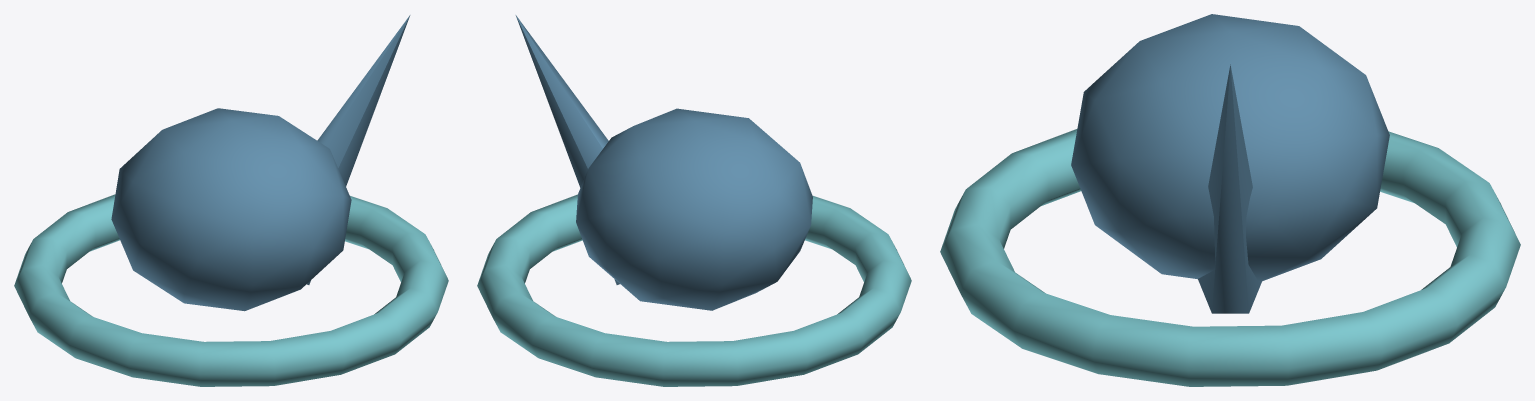
Rendered from wpn_r_07.glb.
3 views of the same model, side by side, from view 1: azimuth 30°, elevation 25°; view 2: azimuth 150°, elevation 25°; view 3: azimuth 270°, elevation 25° (orthographic). The views are drawn at different scales.
Parts seen in each view (by area): view 1: impact_core, impact_ring, impact_ray; view 2: impact_core, impact_ring, impact_ray; view 3: impact_core, impact_ring, impact_ray.
Boxes of the visible parts, bbox=[...] form: impact_core: bbox=[111, 108, 351, 311]; impact_ring: bbox=[14, 194, 448, 386]; impact_ray: bbox=[307, 15, 410, 284]; impact_core: bbox=[576, 108, 812, 310]; impact_ring: bbox=[477, 194, 911, 386]; impact_ray: bbox=[515, 15, 619, 284]; impact_core: bbox=[1071, 14, 1389, 281]; impact_ring: bbox=[940, 129, 1520, 386]; impact_ray: bbox=[1198, 64, 1261, 313].
Bounding box in the file's own units: 0.7421 × 0.4681 × 0.7497.
